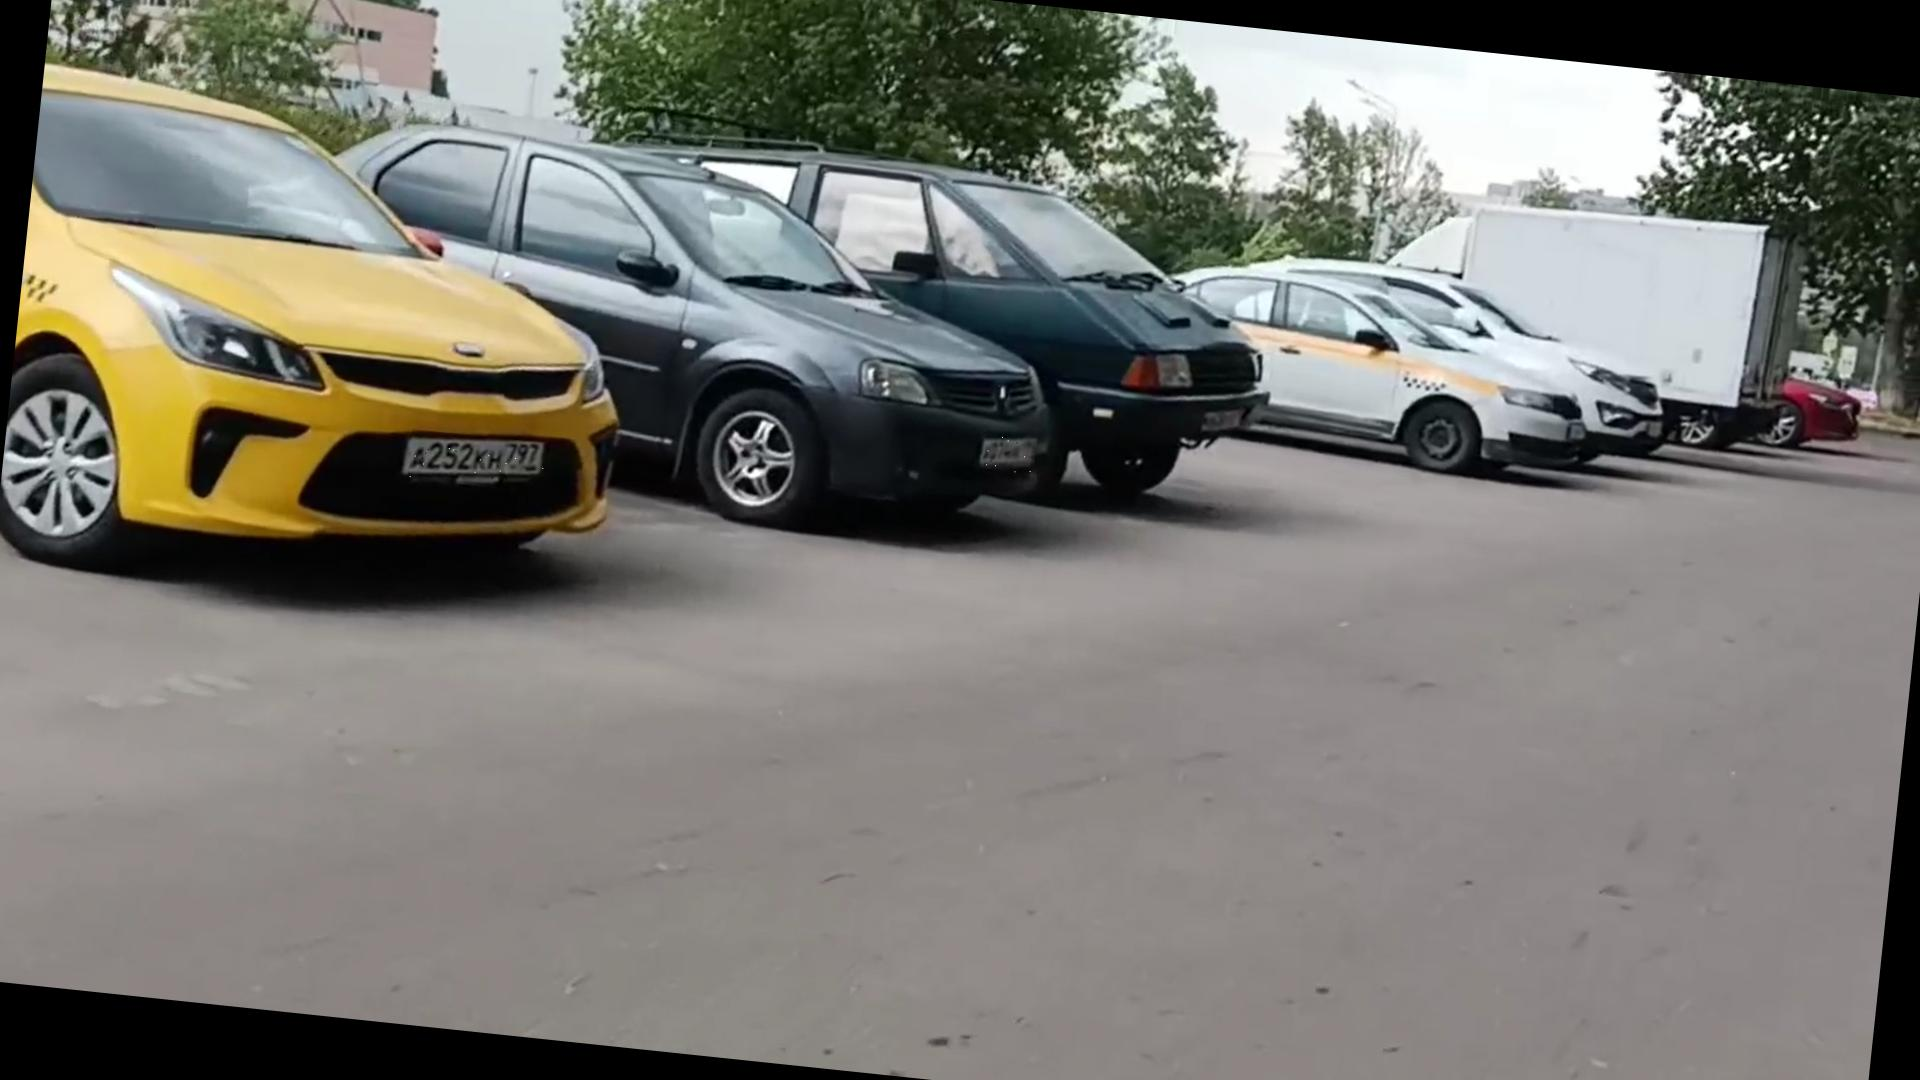plate: (409, 432, 547, 493), (983, 432, 1037, 478)
